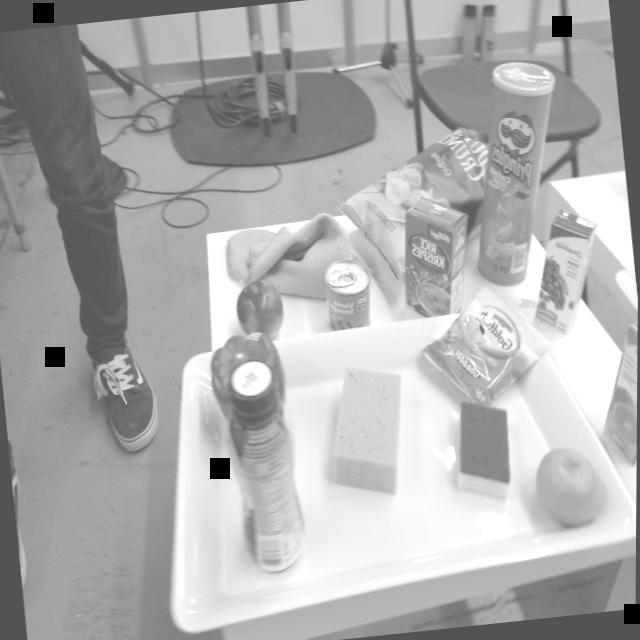apple: (231, 274, 291, 345)
cereal: (393, 190, 481, 329)
chocolate_drink: (215, 352, 315, 582)
grape_juice: (520, 202, 611, 343)
orange: (525, 439, 608, 533)
orange_juice: (590, 312, 638, 471)
pringles: (455, 55, 576, 292)
sausages: (319, 253, 379, 338)
scrubby: (446, 396, 519, 509)
sponge_opl: (317, 358, 419, 505)
